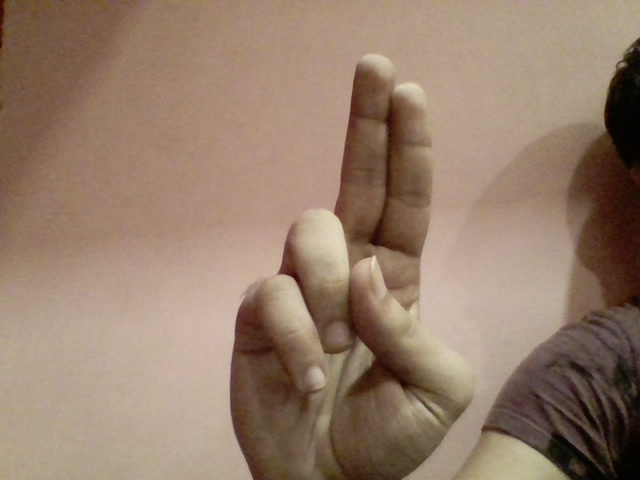u: (209, 46, 479, 479)
